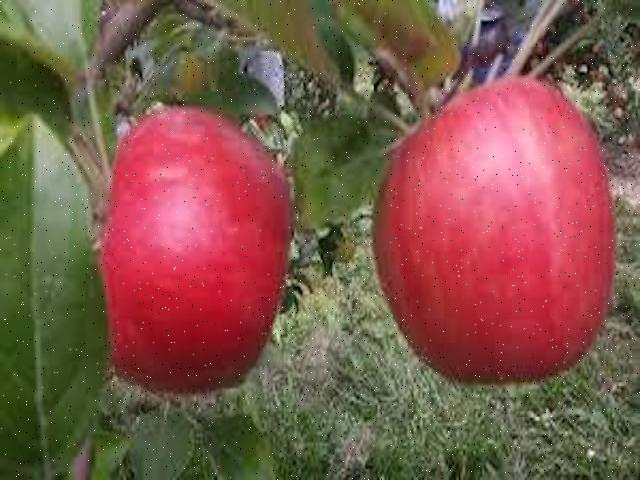apple: (370, 70, 618, 390), (97, 100, 293, 394)
